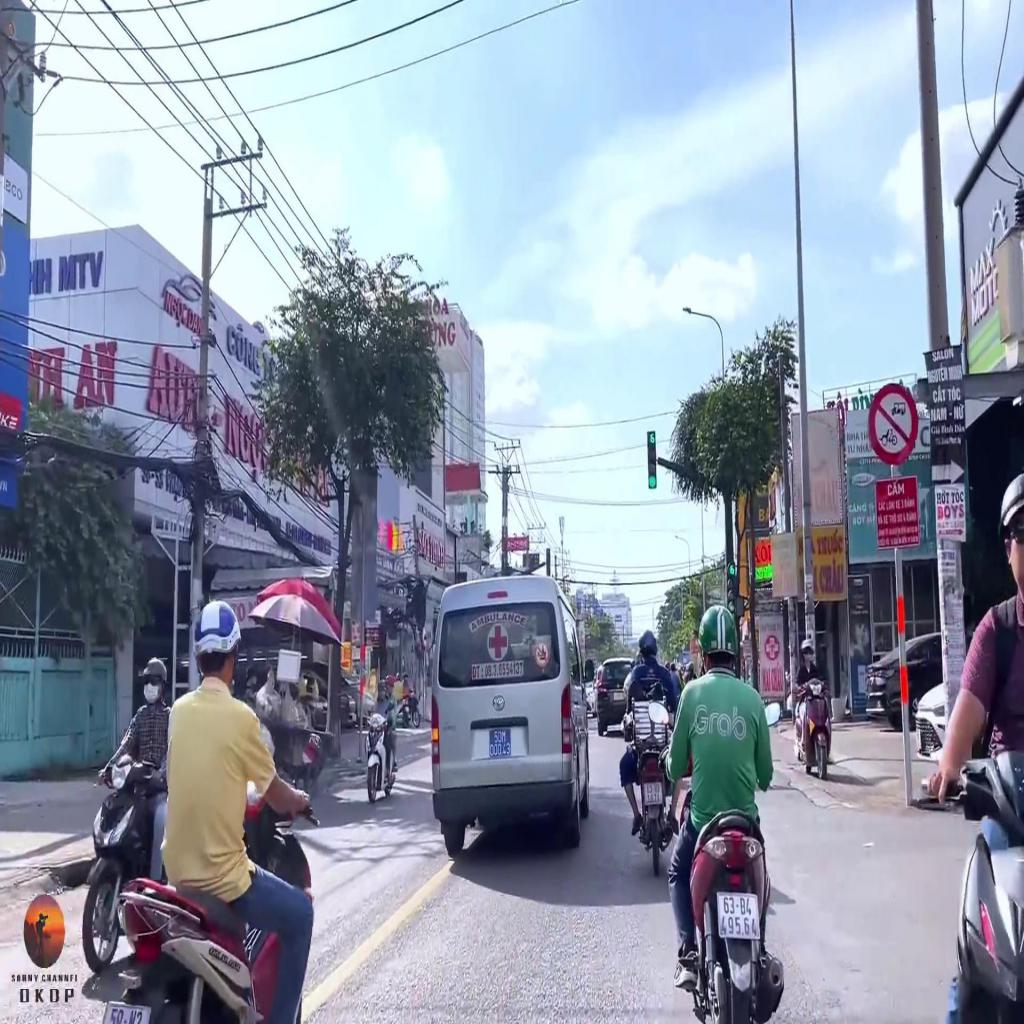cam_cac_loai_xe_3_banh: (867, 383, 919, 466)
